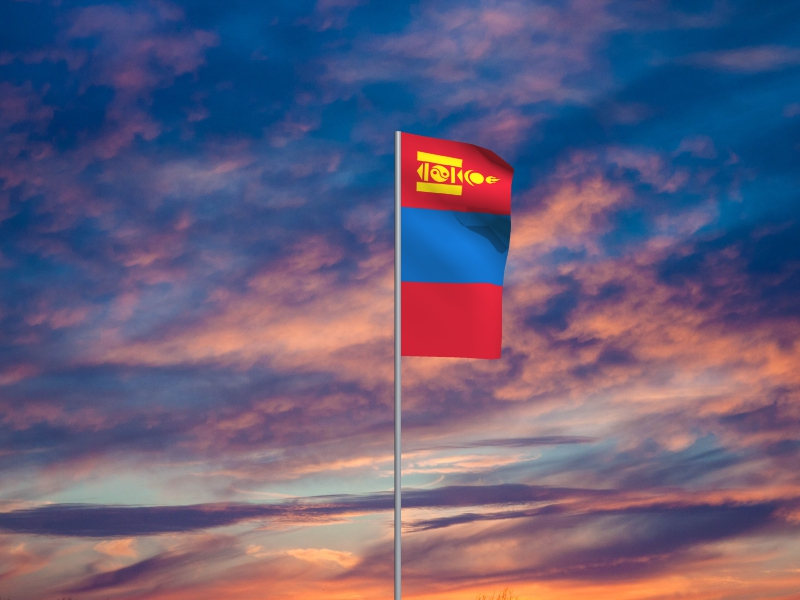mn: (402, 133, 516, 361)
